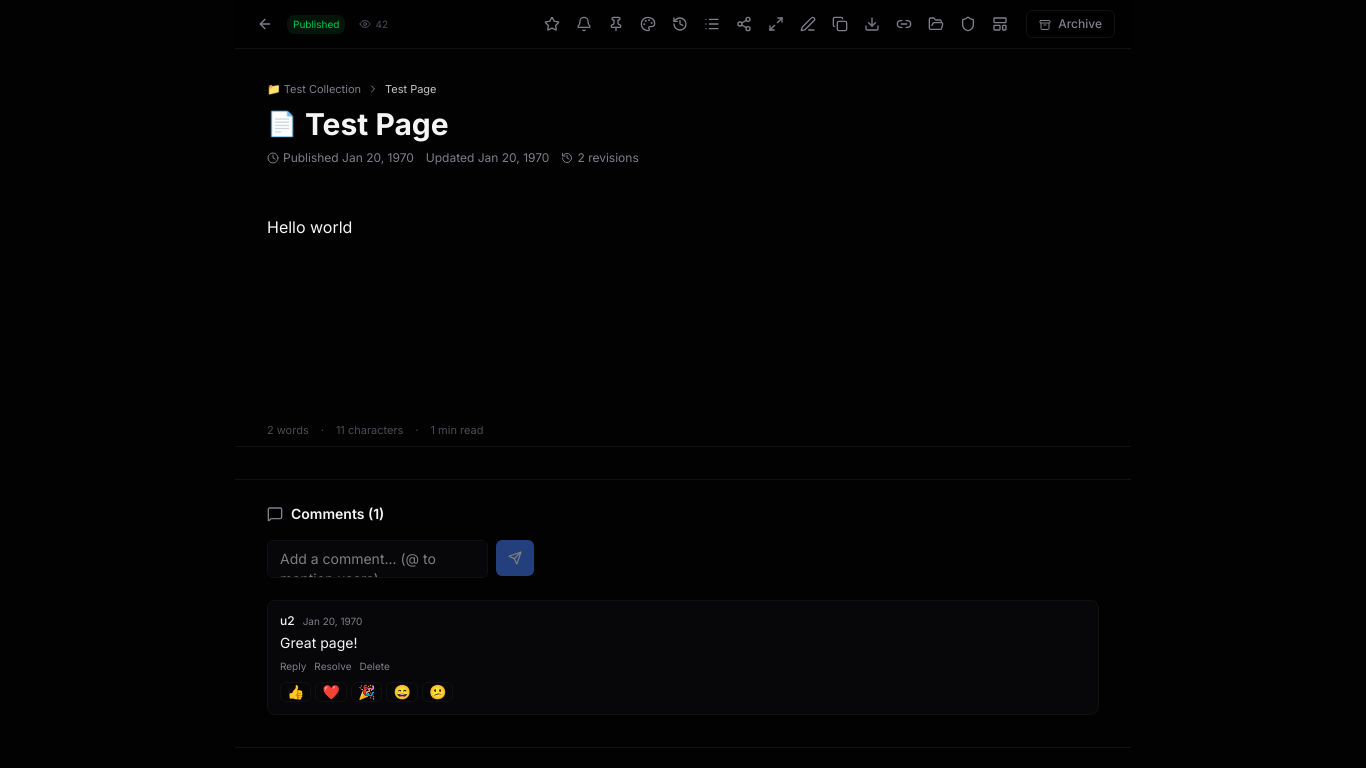
Test case: PageView › opens revisions history panel when History button clicked
What coordinates should you click on to do the following:
click the button titled "History"
I would click on:
 (680, 24)
Its box is [666, 10, 694, 38].
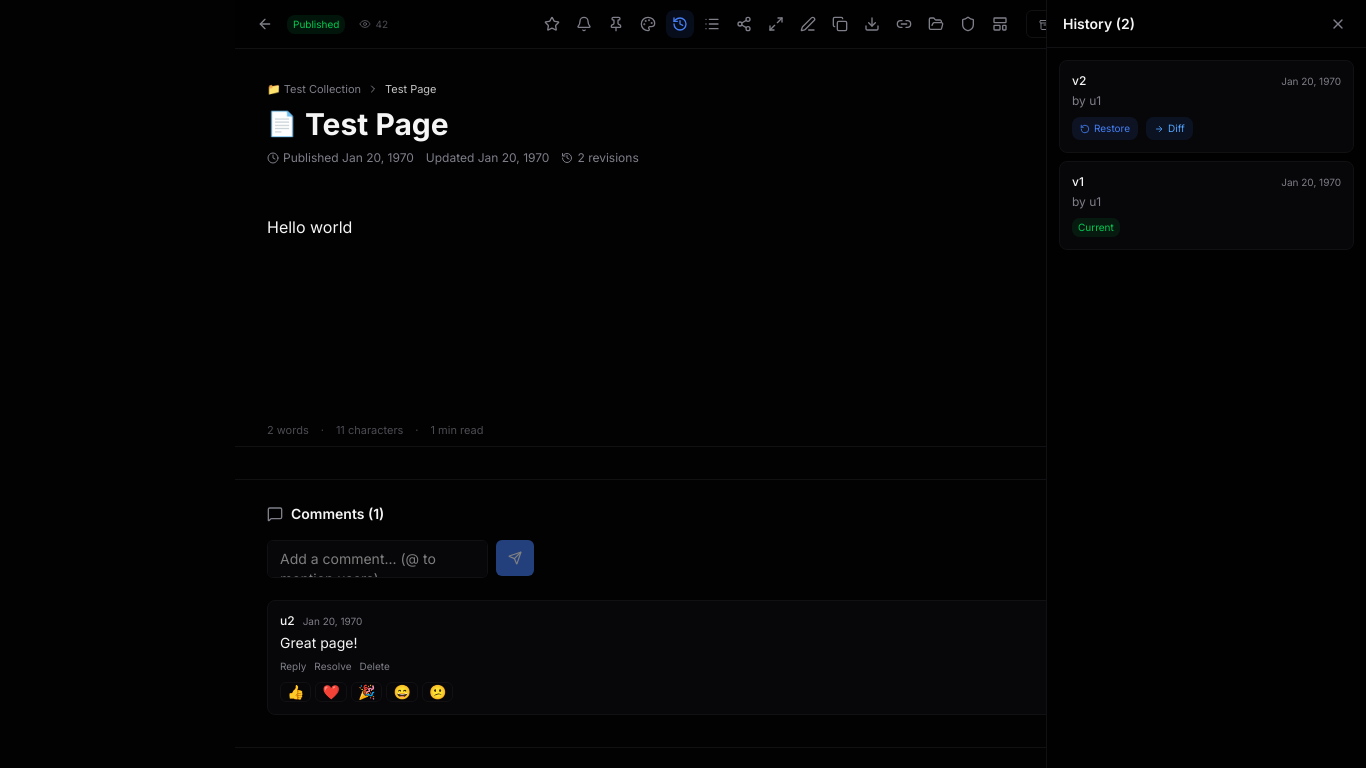
Expected: the heading "History (2)" is shown, [1063, 14, 1135, 34]
